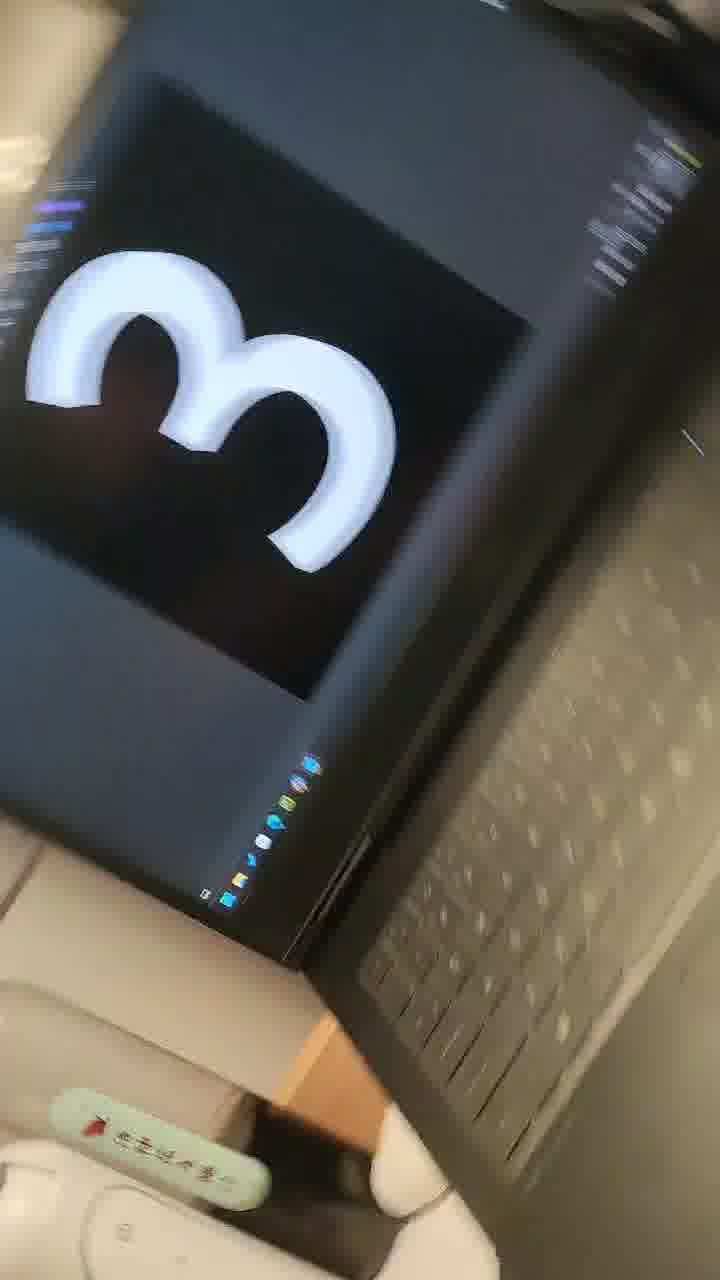three: (1, 162, 525, 649)
